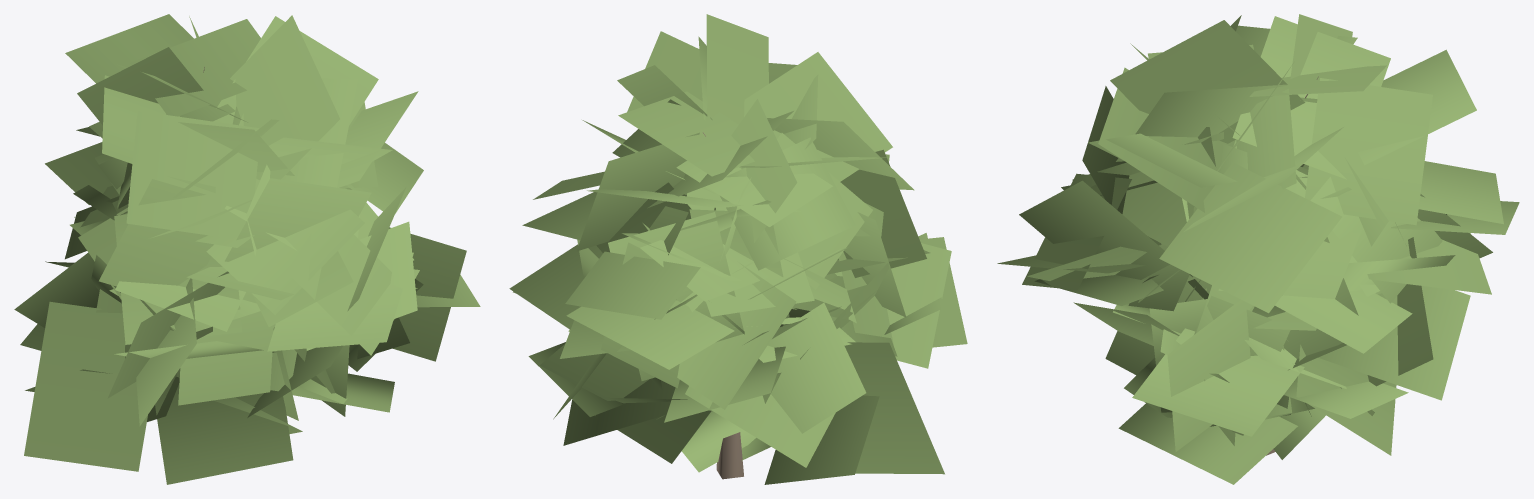
File: Oak_12_young_lod2.glb
The picture shows the model from 3 angles, left to right: view 1: azimuth 30°, elevation 25°; view 2: azimuth 150°, elevation 25°; view 3: azimuth 270°, elevation 25°; orthographic projection. The views are drawn at different scales.
Parts seen in each view (by area): view 1: Oak_12_young_lod2; view 2: Oak_12_young_lod2; view 3: Oak_12_young_lod2.
Part boxes in pixels (x1,y1,x2,y2): Oak_12_young_lod2: [14, 14, 480, 484]; Oak_12_young_lod2: [509, 14, 967, 484]; Oak_12_young_lod2: [997, 14, 1519, 484].
Bounding box in the file's own units: 9.43 × 9.01 × 9.47.
